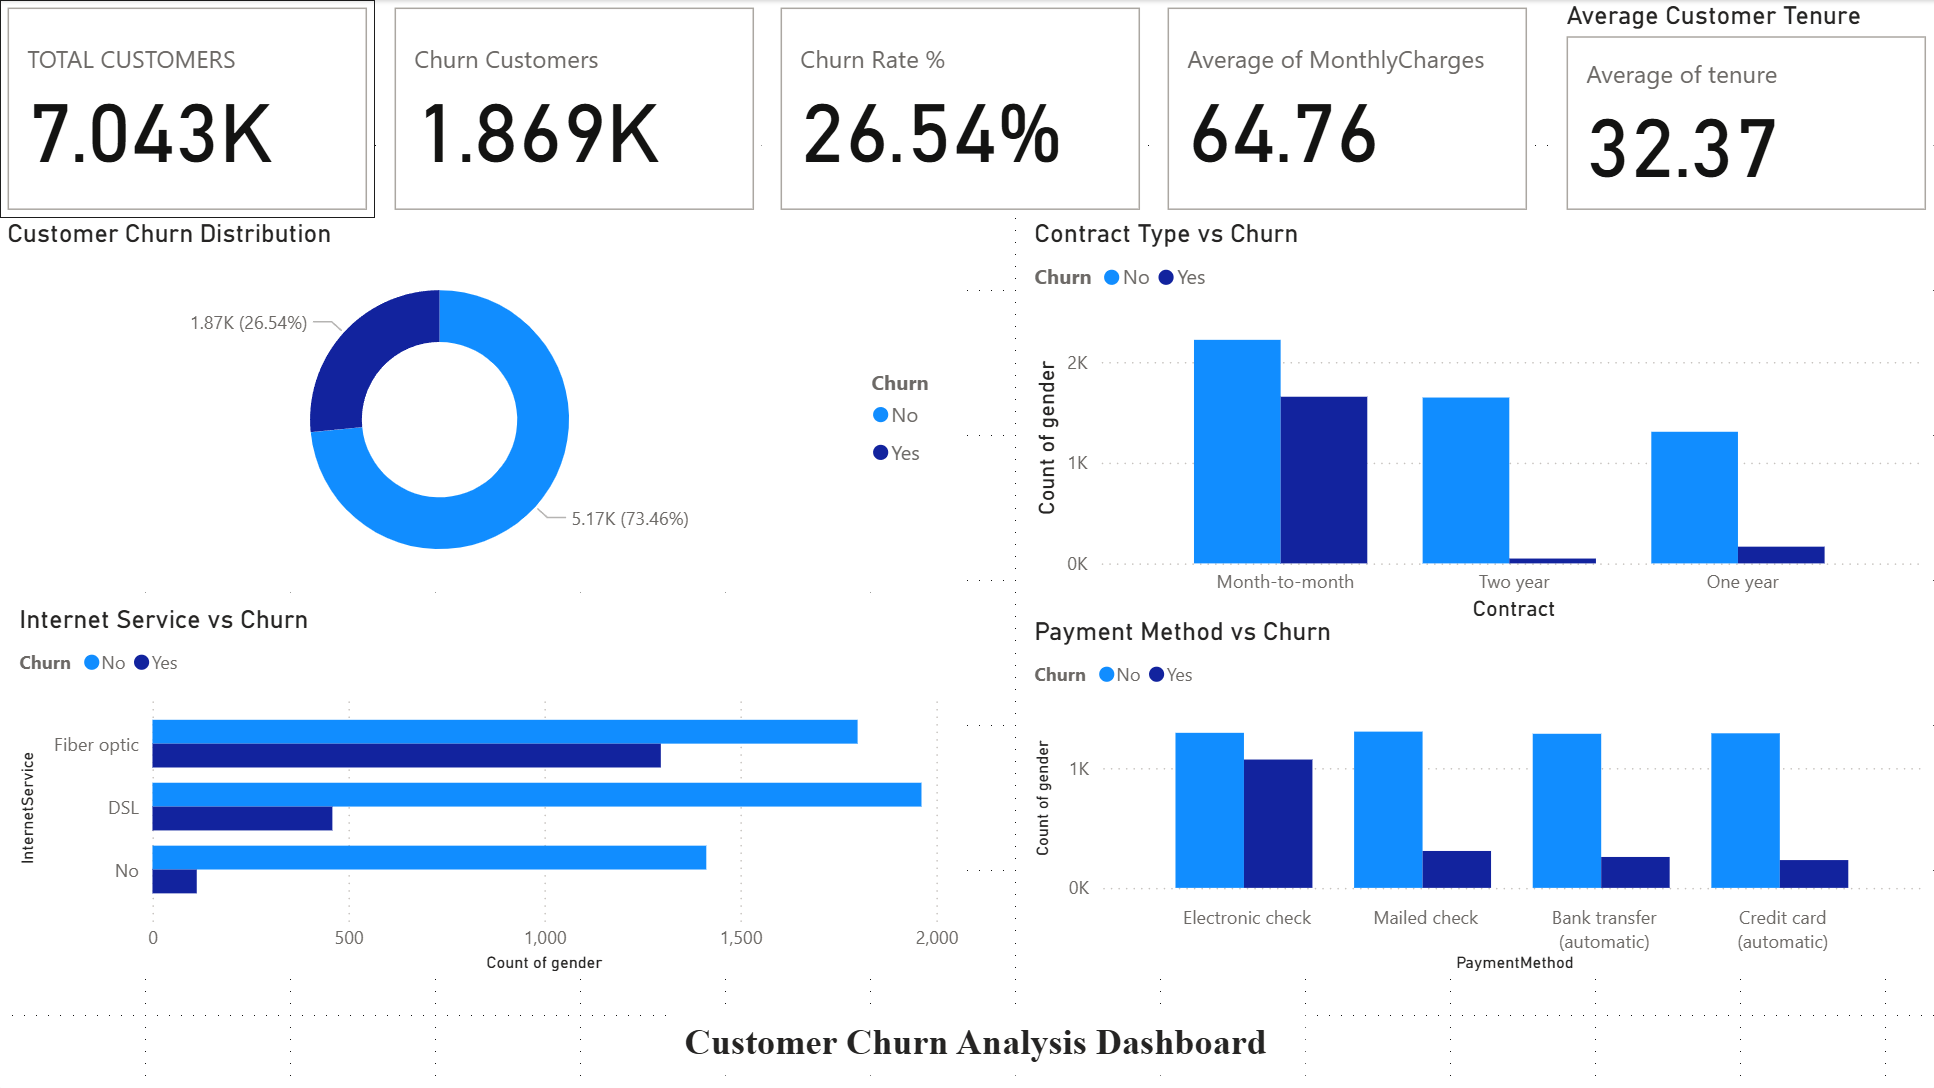

The dashboard page shown, as its layout file describes it:
{"tool":"powerbi","page":{"name":"Customer Churn Analysis Dashboard","canvas":[1280,720],"ordinal":0},"visuals":[{"type":"cardVisual","fields":{"Data":["CountNonNull(Telco-Customer-Churn.gender)"]},"box":[0,0,248,144],"z":0},{"type":"cardVisual","fields":{"Data":["Telco-Customer-Churn.Churn Customers"]},"box":[256,0,248,144],"z":1000},{"type":"cardVisual","fields":{"Data":["Telco-Customer-Churn.Churn Rate %"]},"box":[512,0,248,144],"z":2000},{"type":"cardVisual","fields":{"Data":["Avg(Telco-Customer-Churn.MonthlyCharges)"]},"box":[768,0,248,144],"z":3000},{"type":"cardVisual","title":"Average Customer Tenure","fields":{"Data":["Avg(Telco-Customer-Churn.tenure)"]},"box":[1032,0,248,144],"z":4000},{"type":"donutChart","title":"Customer Churn Distribution","fields":{"Category":["Telco-Customer-Churn.Churn"],"Y":["CountNonNull(Telco-Customer-Churn.gender)"]},"box":[0,144,640,248],"z":5000},{"type":"clusteredColumnChart","title":"Contract Type vs Churn","fields":{"Category":["Telco-Customer-Churn.Contract"],"Series":["Telco-Customer-Churn.Churn"],"Y":["CountNonNull(Telco-Customer-Churn.gender)"]},"box":[680,144,600,272],"z":6000},{"type":"clusteredBarChart","title":"Internet Service vs Churn","fields":{"Category":["Telco-Customer-Churn.InternetService"],"Series":["Telco-Customer-Churn.Churn"],"Y":["CountNonNull(Telco-Customer-Churn.gender)"]},"box":[8,400,632,248],"z":7000},{"type":"clusteredColumnChart","title":"Payment Method vs Churn","fields":{"Category":["Telco-Customer-Churn.PaymentMethod"],"Y":["CountNonNull(Telco-Customer-Churn.gender)"],"Series":["Telco-Customer-Churn.Churn"]},"box":[680,408,600,240],"z":8000},{"type":"textbox","box":[448,672,416,40],"z":8001}]}

Visuals, with their boxes in screenshot pixels (x1, y1, x2, y2), scaled from the page's 1280x720 canvas onto the 1934x1088 screenshot:
cardVisual - CountNonNull(Telco-Customer-Churn.gender): [0,0,375,218]
cardVisual - Telco-Customer-Churn.Churn Customers: [387,0,762,218]
cardVisual - Telco-Customer-Churn.Churn Rate %: [774,0,1148,218]
cardVisual - Avg(Telco-Customer-Churn.MonthlyCharges): [1160,0,1535,218]
"Average Customer Tenure" cardVisual: [1559,0,1933,218]
"Customer Churn Distribution" donutChart: [0,218,967,592]
"Contract Type vs Churn" clusteredColumnChart: [1027,218,1933,629]
"Internet Service vs Churn" clusteredBarChart: [12,604,967,979]
"Payment Method vs Churn" clusteredColumnChart: [1027,617,1933,979]
textbox: [677,1015,1305,1076]
